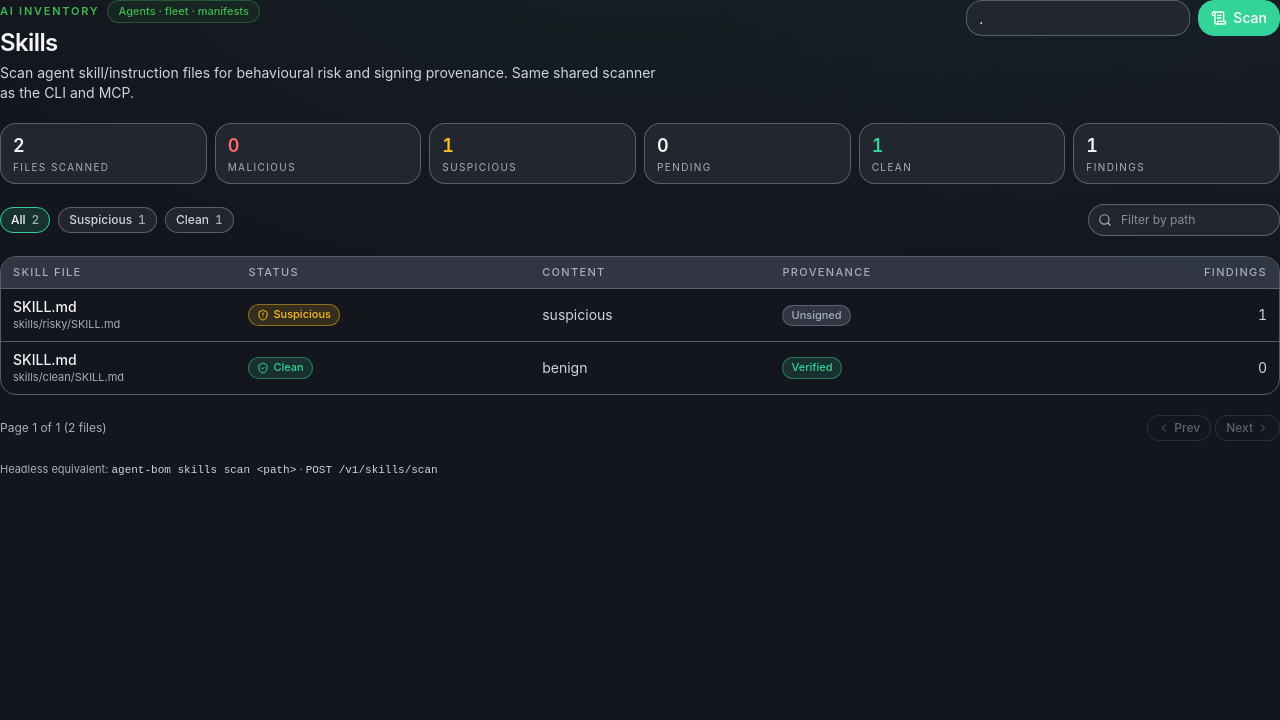
Test case: SkillsPage › opens a drawer with provenance + findings on row click
Click the 1st row with test id "skills-row" at (640, 315), box x1=1 y1=289 x2=1279 y2=341
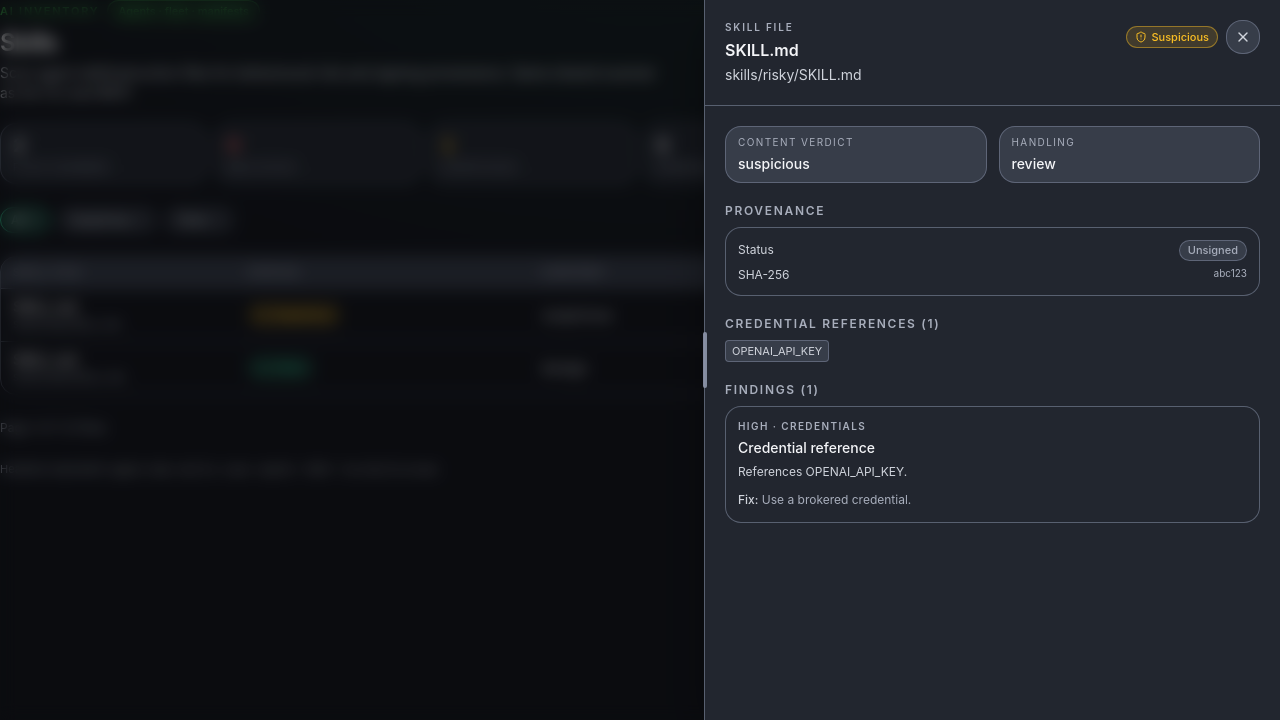
Check: the text "skills/risky/SKILL.md" is shown, box x1=725 y1=65 x2=862 y2=85
Check: the text "OPENAI_API_KEY" is shown, box x1=725 y1=340 x2=829 y2=362
Check: the text "Credential reference" is shown, box x1=738 y1=439 x2=875 y2=456
